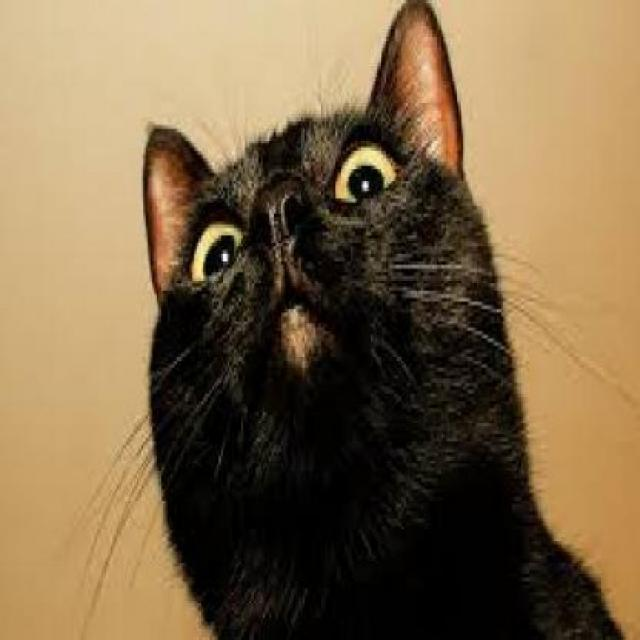animals: (89, 7, 596, 633)
